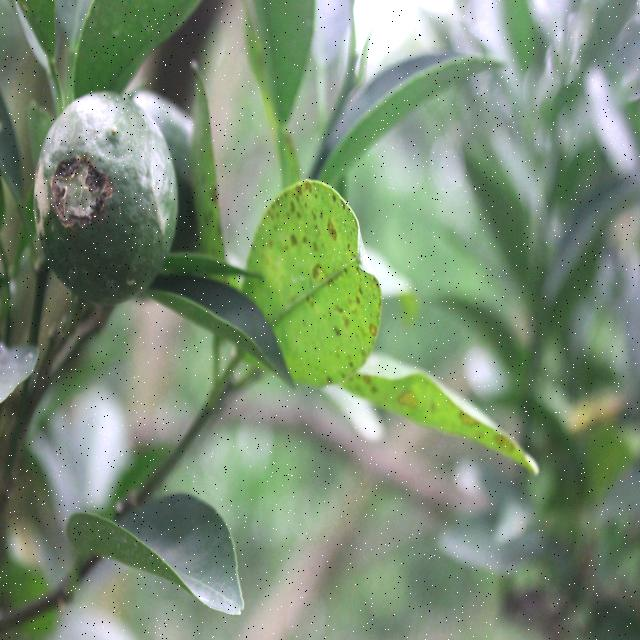melanose: (249, 180, 383, 390), (356, 356, 533, 477)
